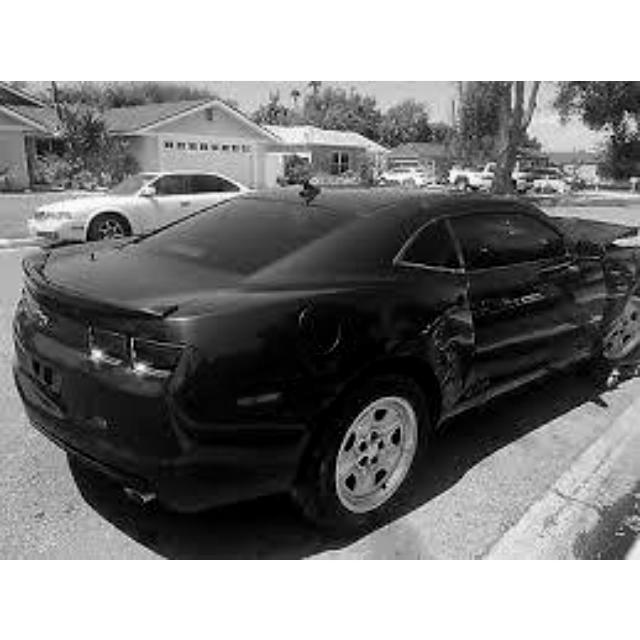doorouter-dent: (482, 261, 600, 359)
quaterpanel-dent: (394, 281, 475, 416)
